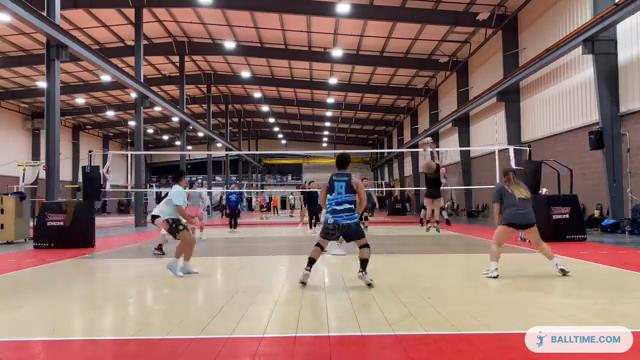muro: (416, 139, 443, 234)
